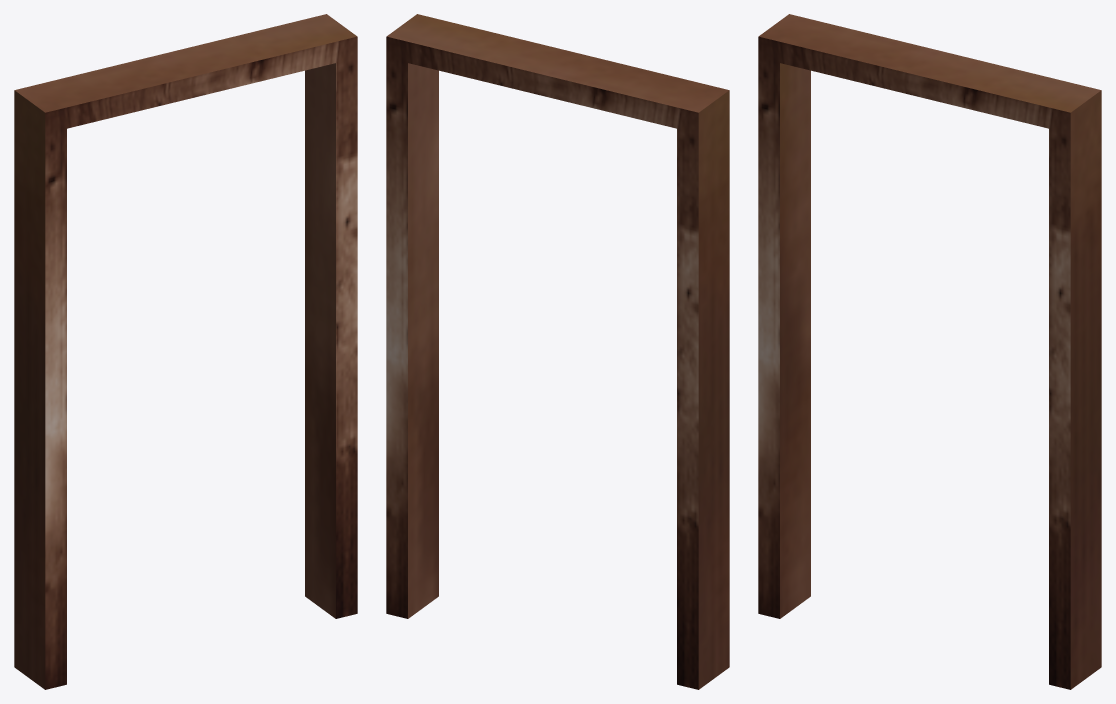
File: doorframe_001.obj
3 views of the same model, side by side, from view 1: azimuth 30°, elevation 25°; view 2: azimuth 150°, elevation 25°; view 3: azimuth 330°, elevation 25° (orthographic).
Visible parts, largest first — view 1: Doorframe; view 2: Doorframe; view 3: Doorframe.
Part boxes in pixels (<box>): Doorframe: <box>14,14,357,689</box>; Doorframe: <box>386,14,729,689</box>; Doorframe: <box>758,14,1101,689</box>.
Bounding box in the file's own units: 1.17 × 2.07 × 0.2.
1 material, 1 textured.
